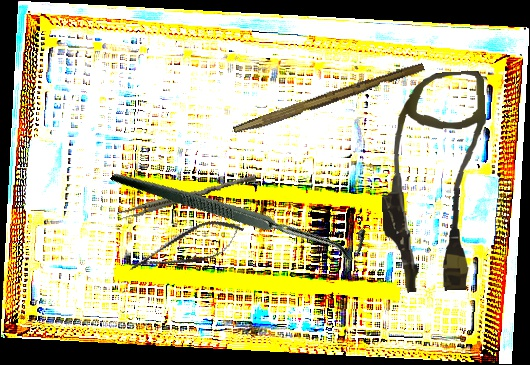Cannula: (375, 70, 495, 294)
Hook Surgical: (109, 76, 374, 341)
Micro Scissor: (122, 211, 250, 285)
Scalpel Handle: (232, 58, 426, 140)
Tissue Forceps: (116, 169, 257, 224)
